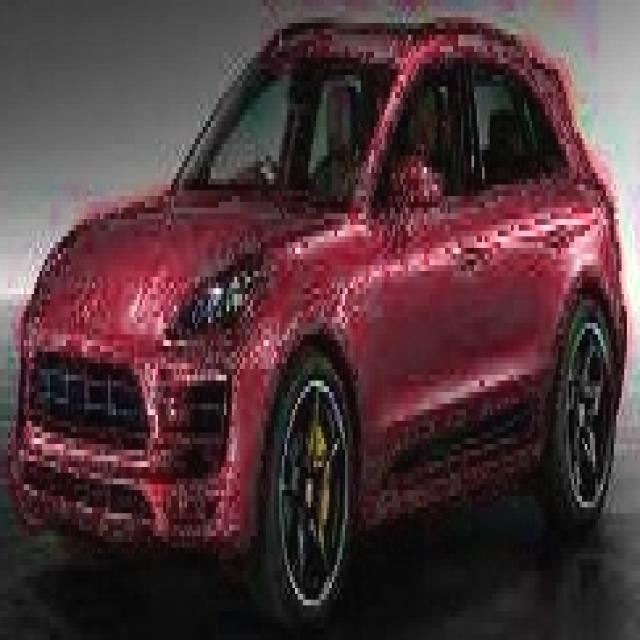maroon: (24, 14, 622, 597)
